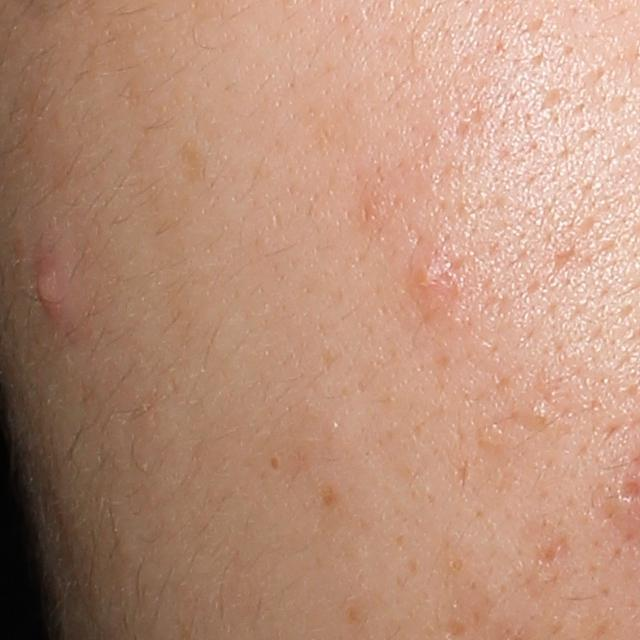atrophic_scar: (533, 538, 570, 565)
comedo: (529, 403, 553, 424)
papule: (403, 245, 461, 307), (37, 251, 66, 319)
